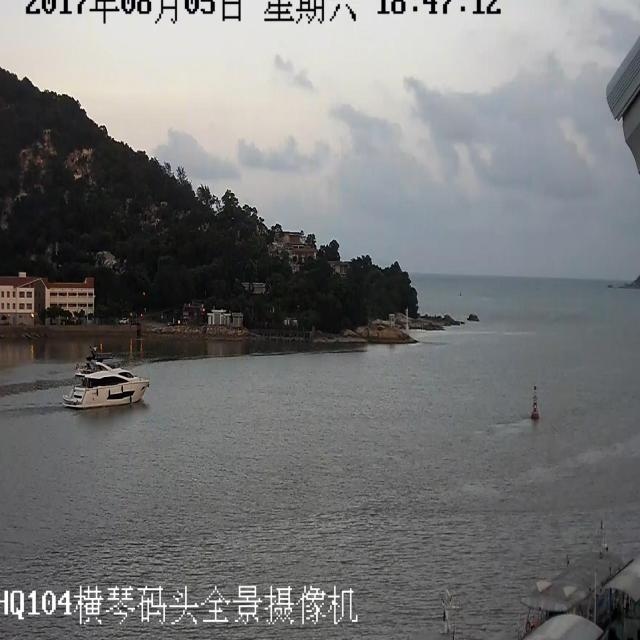buoy: (505, 366, 547, 423)
passenger ship: (55, 321, 160, 423)
